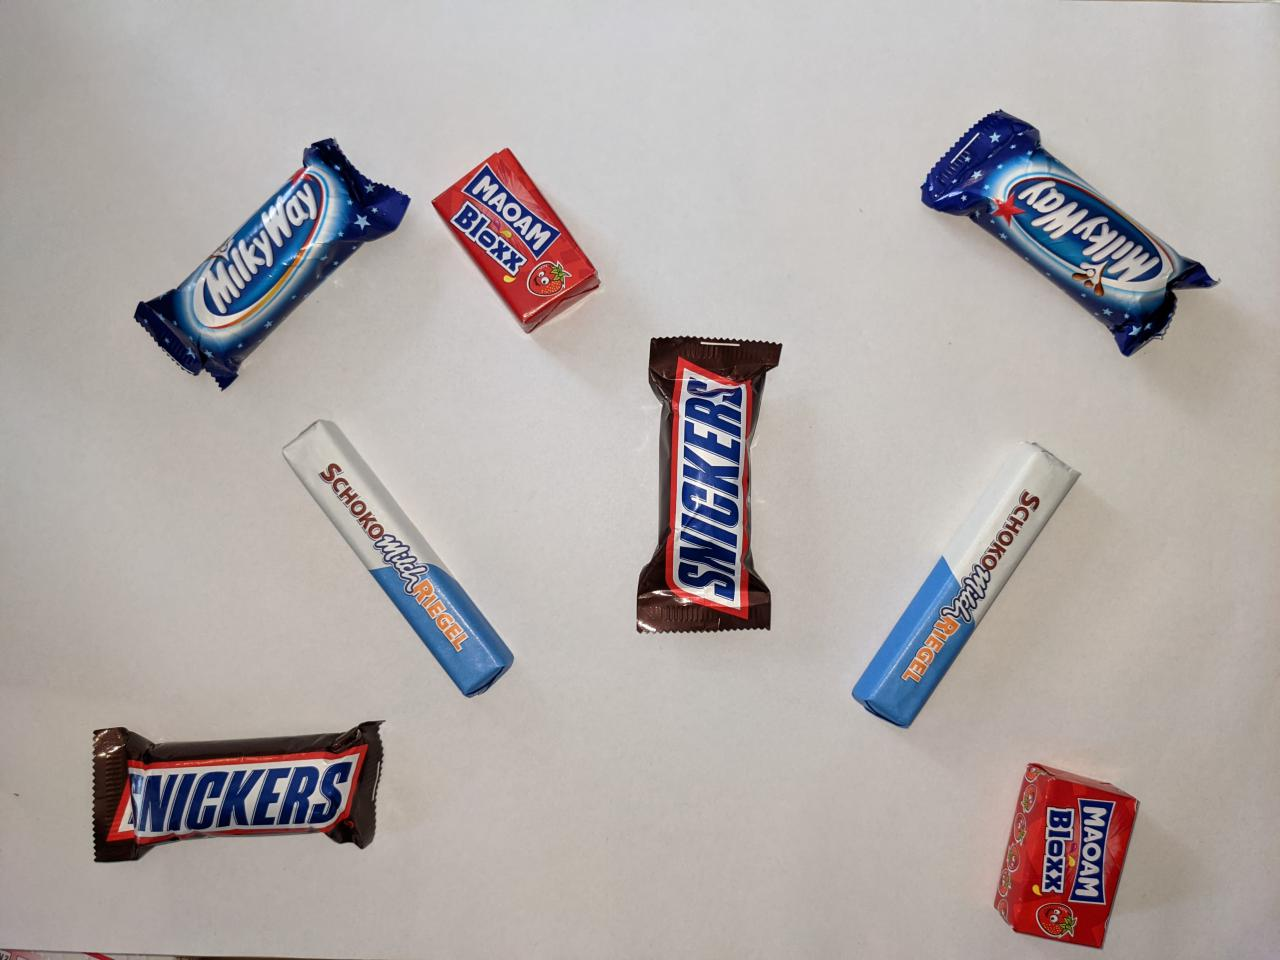MAOAM: (423, 142, 611, 343), (986, 757, 1147, 959)
MilkyWay: (908, 103, 1229, 367), (126, 131, 418, 397)
Schokoriegel: (845, 432, 1089, 739), (273, 411, 521, 708)
Snickers: (626, 327, 791, 642), (81, 714, 394, 870)
